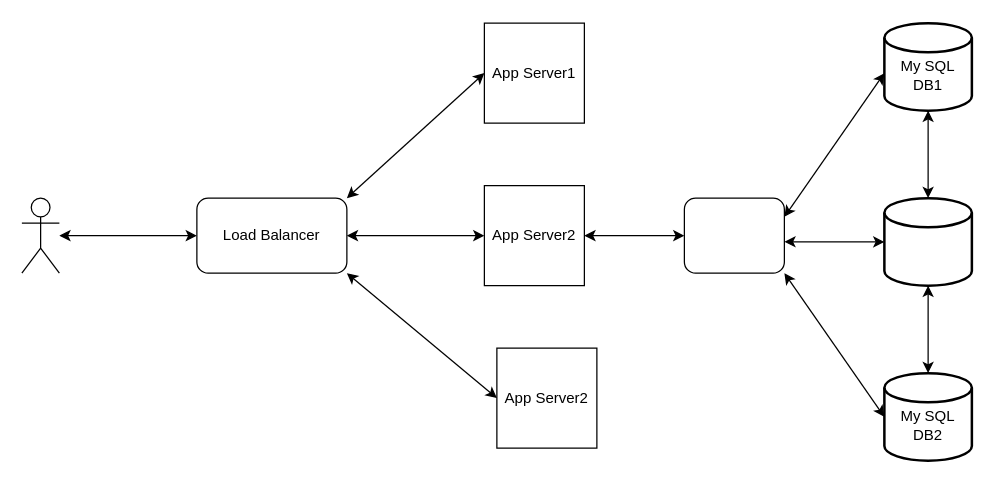
Image size: 995x483. Some labels were removed from this diagram. Each missing label, with the box of its shape:
Actor: (21, 197, 59, 273)
My SQL DB: (882, 196, 972, 286)
Redis: (683, 197, 784, 273)
